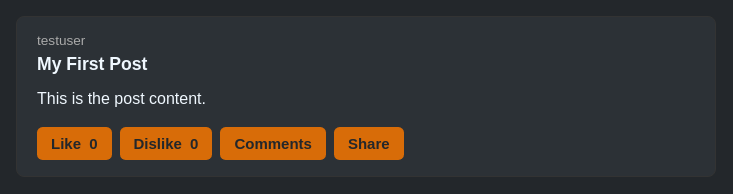
Scenario: clicking Like shows the like count returned by the server
Expected: the 1st text "0" is shown, [89, 135, 98, 152]
What coordinates should you click on to do the following:
click the button "Like 0"
I would click on:
 (74, 144)
Its box is [37, 127, 112, 160].
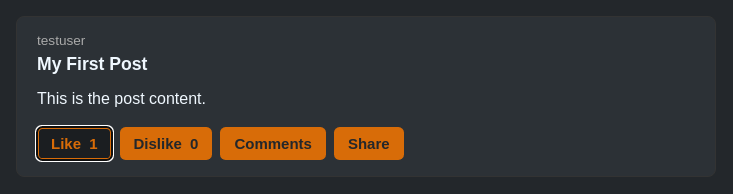
Expected: the text "1" is shown, [89, 135, 98, 152]
